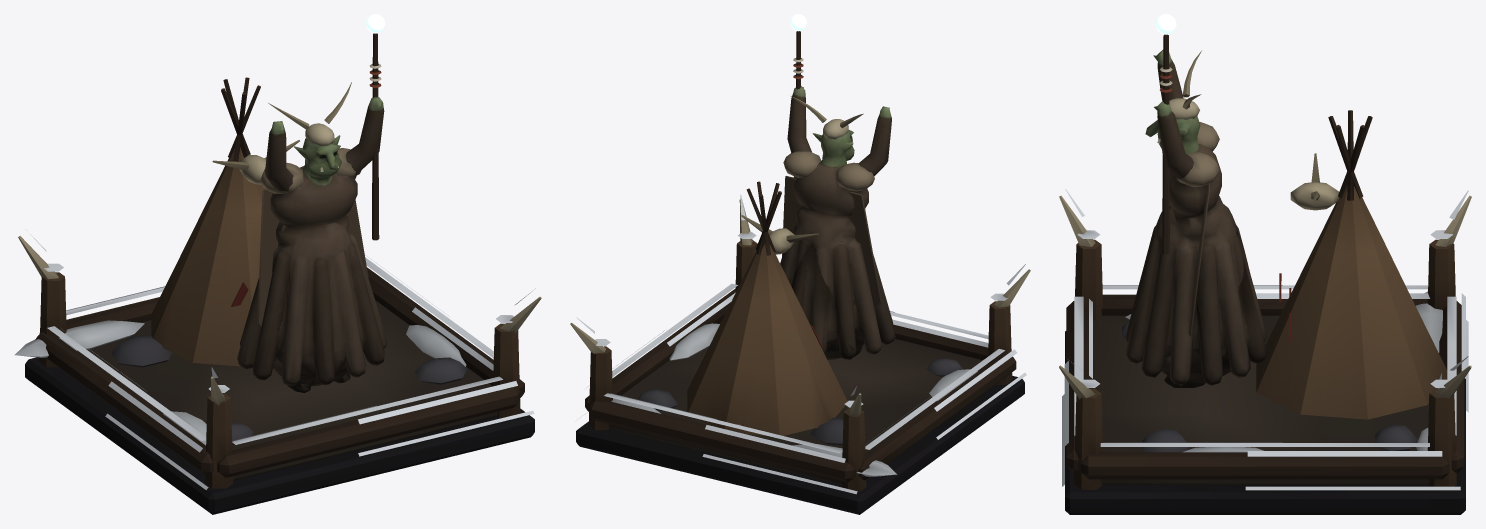
File: horde-5.glb
3 renders of one model, left to right at view 1: azimuth 30°, elevation 25°; view 2: azimuth 150°, elevation 25°; view 3: azimuth 270°, elevation 25°, orthographic. The views are drawn at different scales.
Visible parts, largest first — view 1: orage_5_architecture, orage_5_chaman, orage_5_chaman_accessoires; view 2: orage_5_architecture, orage_5_chaman, orage_5_chaman_accessoires; view 3: orage_5_architecture, orage_5_chaman, orage_5_chaman_accessoires.
Part boxes in pixels (x1,y1,x2,y2): orage_5_architecture: [14, 77, 541, 514]; orage_5_chaman: [237, 97, 387, 392]; orage_5_chaman_accessoires: [257, 33, 381, 327]; orage_5_architecture: [570, 181, 1030, 514]; orage_5_chaman: [780, 86, 895, 359]; orage_5_chaman_accessoires: [782, 31, 881, 305]; orage_5_architecture: [1059, 110, 1471, 514]; orage_5_chaman: [1125, 49, 1267, 387]; orage_5_chaman_accessoires: [1157, 34, 1219, 335].
Size of the model in its own units: 0.8655 by 0.975 by 0.8237.
3 materials, 1 textured.
